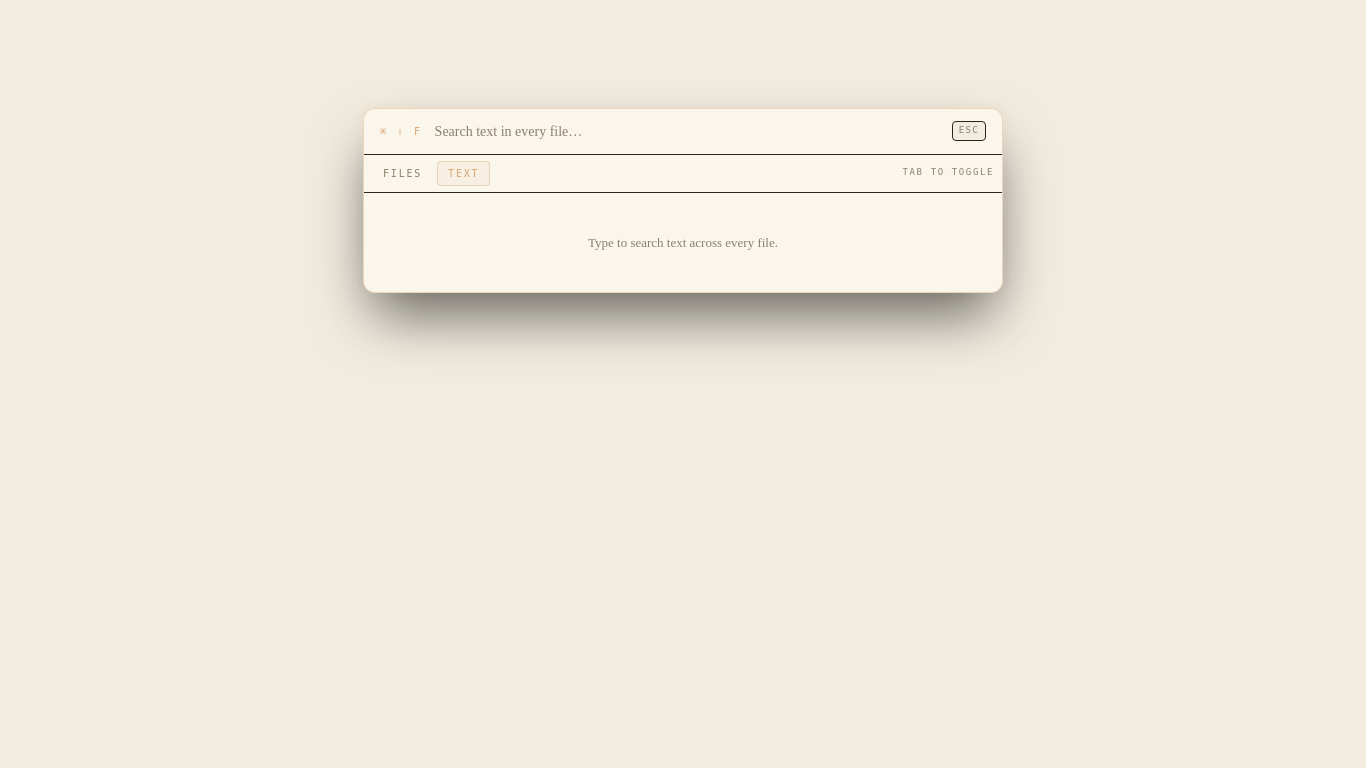
WorkspaceSearchPalette — text mode › shows each hit's line number
Type "total" into the dropdown with placeholder "Search text in every file…" at (687, 131), box [435,120,940,142]
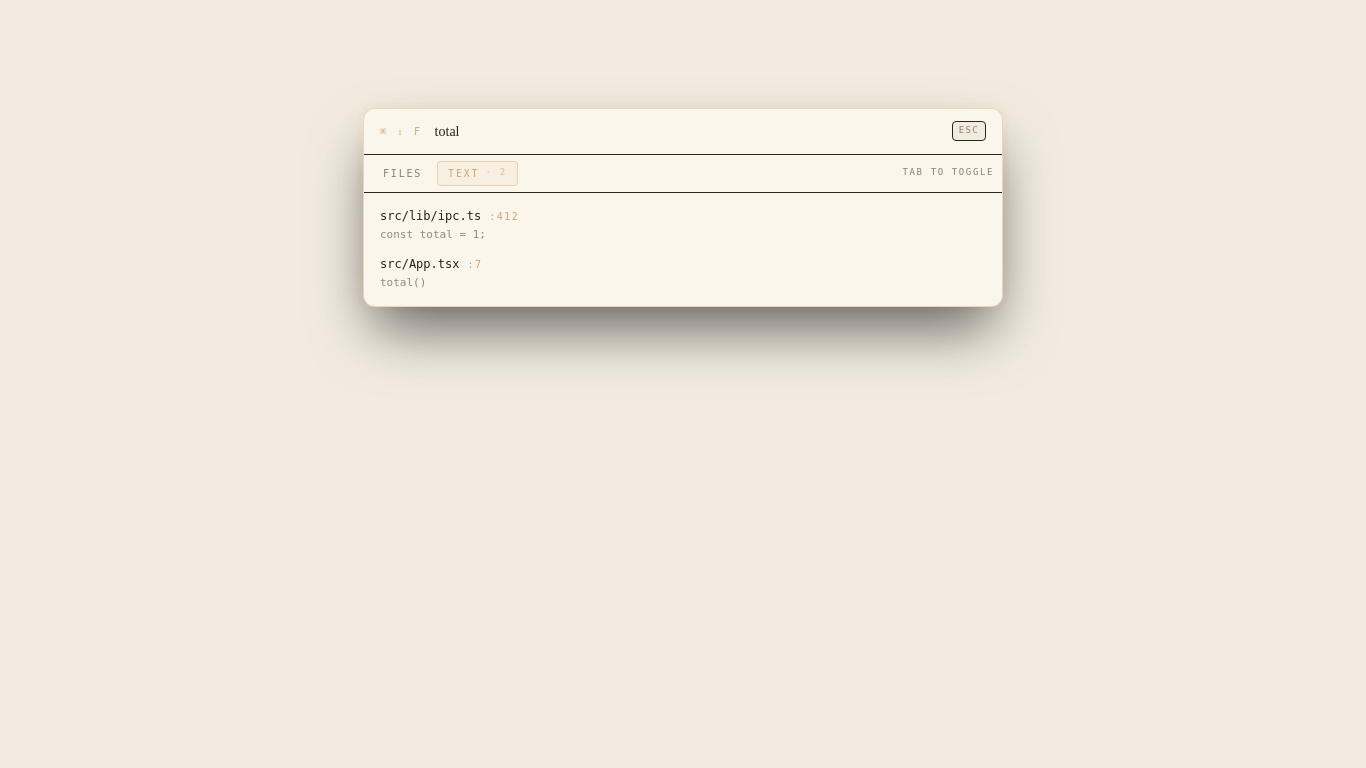
expect the text ":412" is shown: met, box [489,208,519,224]
expect the text ":7" is shown: met, box [468,257,483,272]
